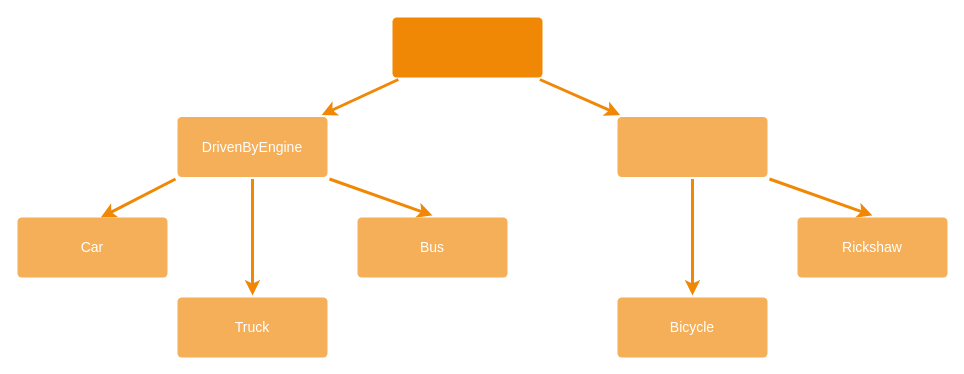
The diagram is 964 pixels wide and 374 high, and some of its shapes have lost their labels. Here are the shapes that lost their labels. From the top down, the centre of each, then its label:
At (467,47): "Vehicle".
At (692,146): "DrivenByHumanPower".
